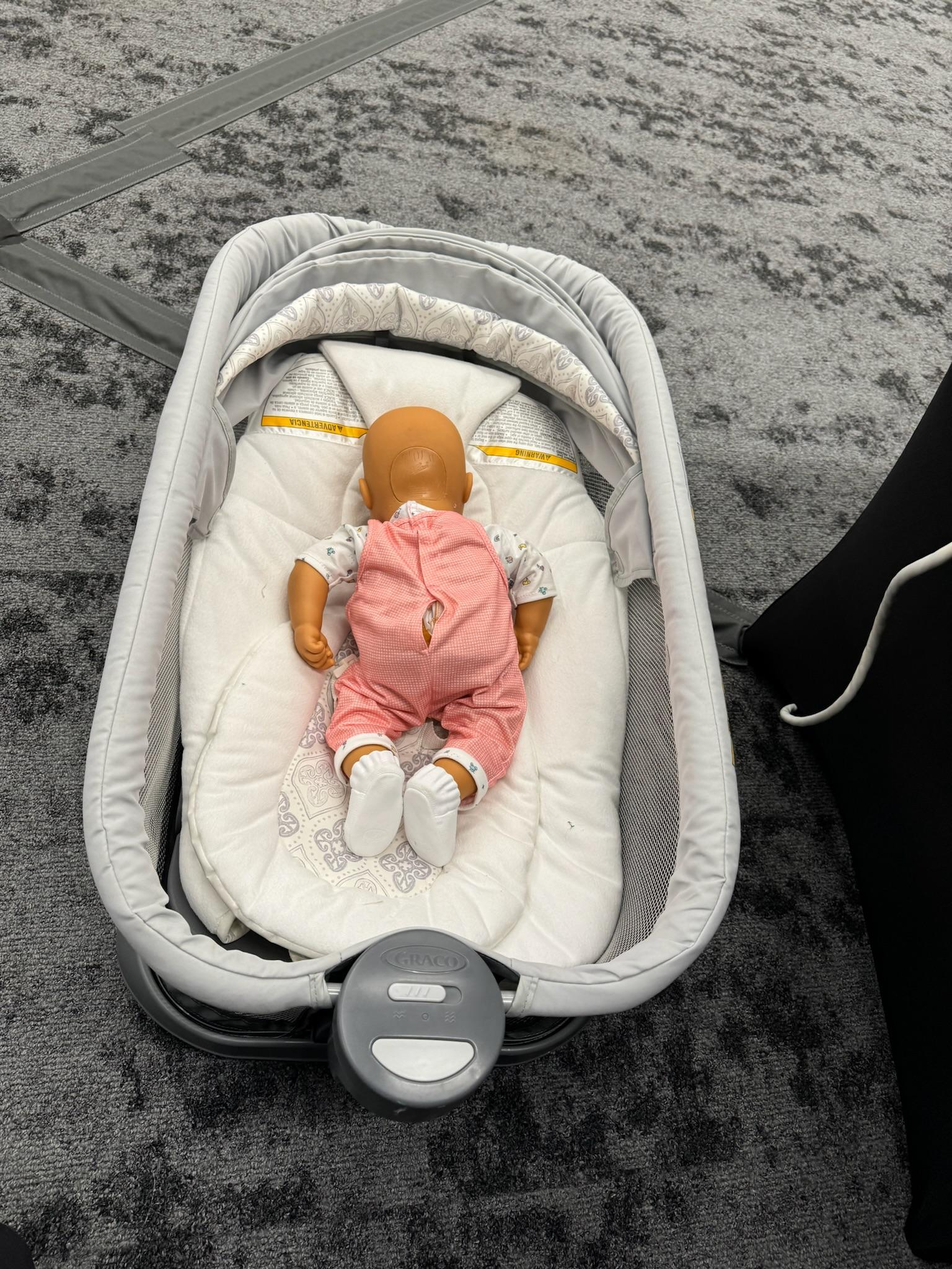baby: (284, 399, 560, 870)
